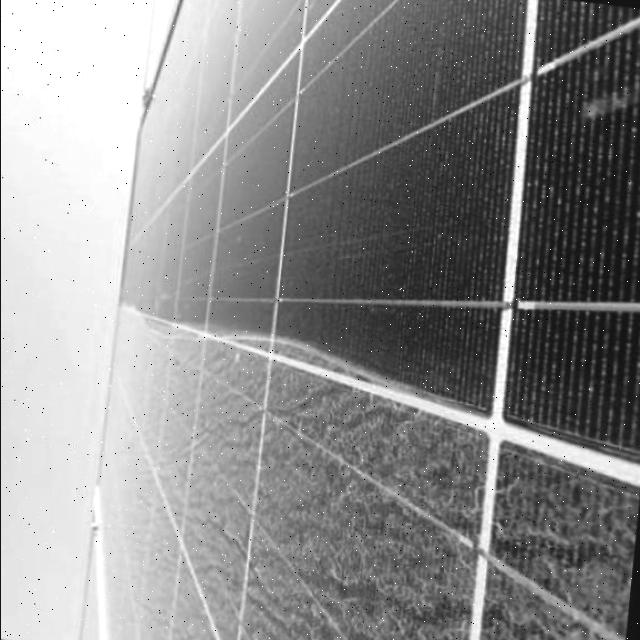Surface Contaminant: (235, 362, 493, 640), (106, 308, 271, 640), (470, 437, 640, 640), (94, 382, 213, 640)
